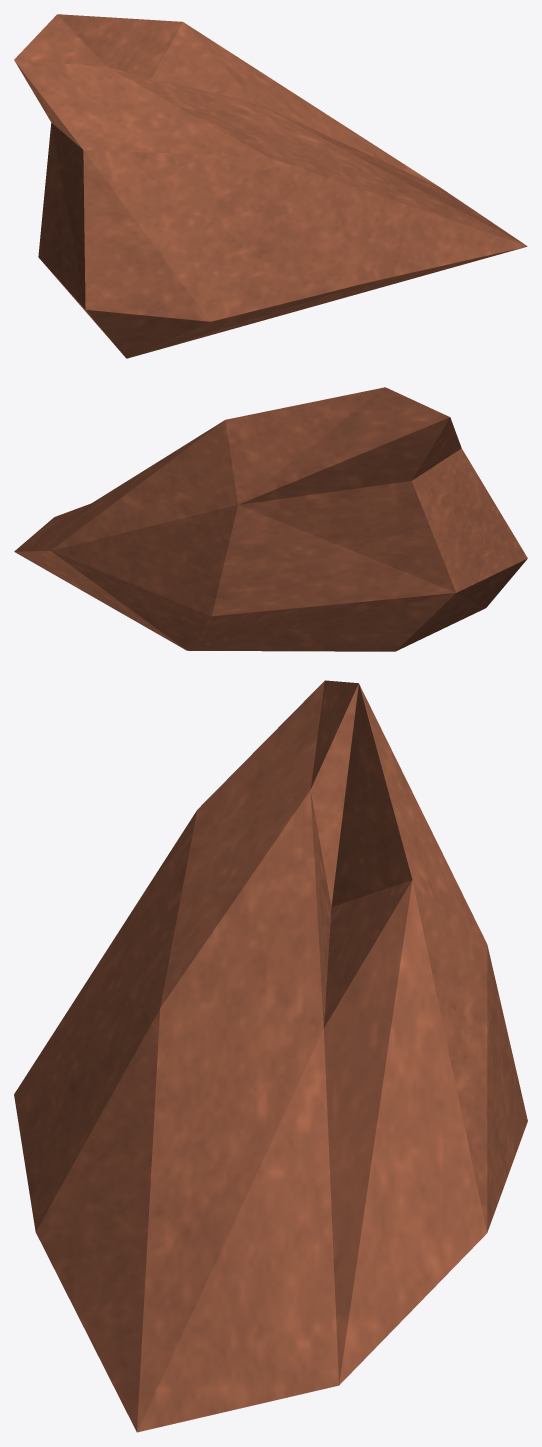
The model's file is boulder_ironstone_hogback.glb.
3 renders of one model, top to bottom at view 1: azimuth 30°, elevation 25°; view 2: azimuth 150°, elevation 25°; view 3: azimuth 270°, elevation 25°, orthographic. The views are drawn at different scales.
Parts seen in each view (by area): view 1: boulder_ironstone_hogback; view 2: boulder_ironstone_hogback; view 3: boulder_ironstone_hogback.
Boxes of the visible parts, x1,y1,x2,y2 form: boulder_ironstone_hogback: (14,14,527,358); boulder_ironstone_hogback: (14,387,527,651); boulder_ironstone_hogback: (14,680,527,1432).
Bounding box in the file's own units: 2.68 × 1.56 × 1.65.
Materials: 1 (1 with a texture image).
